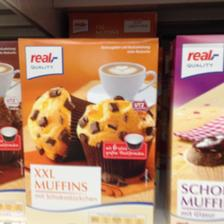Kuchen: (15, 35, 160, 223), (167, 32, 223, 220)
